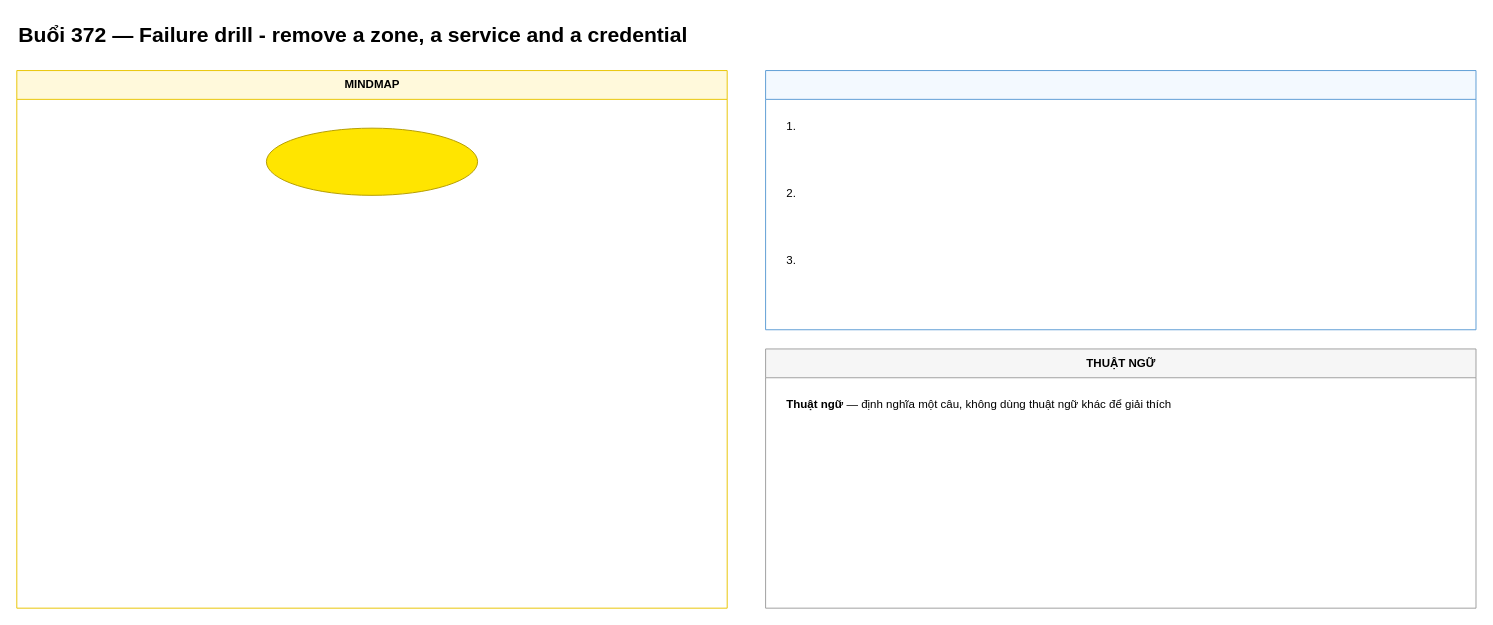
This 1493x625 diagram has some shape labels left out. Each missing label, with the box of its shape:
Failure drill - remove a zone, a service and a credential: (265, 127, 478, 195)
KEY TAKEAWAY — ba điều phải nhớ: (765, 70, 1476, 330)
